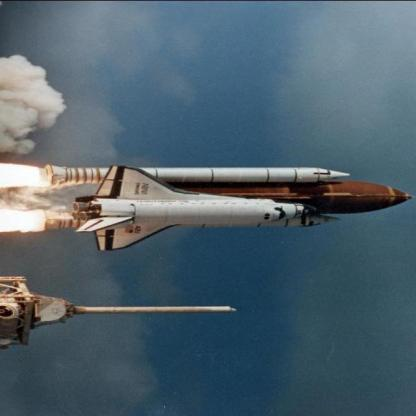MIL_TBM: (46, 165, 350, 184), (56, 303, 242, 315)
